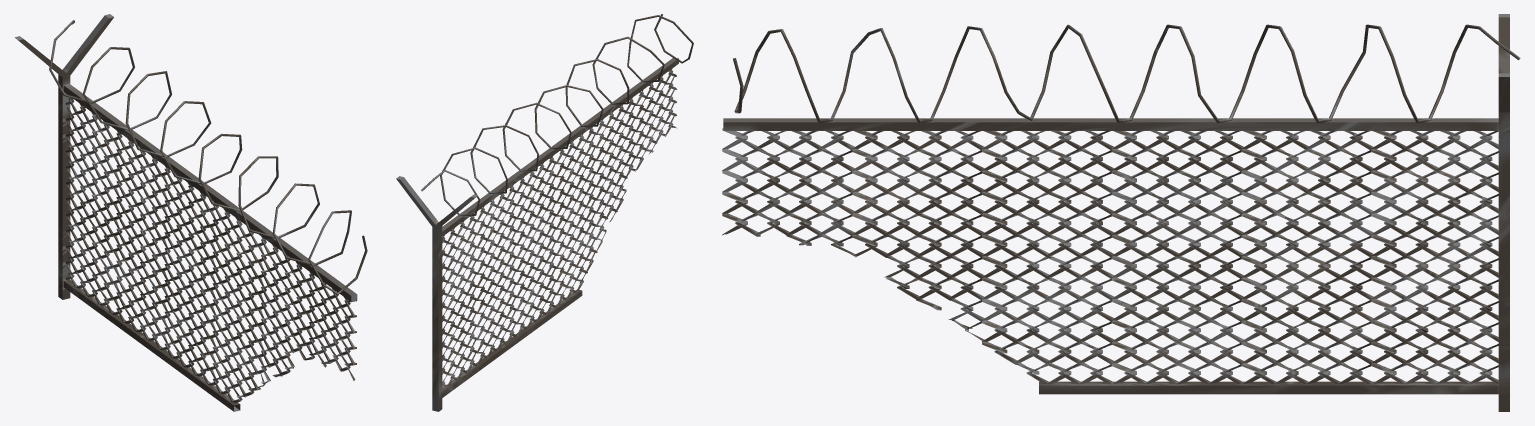
File: FenceBroken.fbx
The picture shows the model from 3 angles, left to right: view 1: azimuth 30°, elevation 25°; view 2: azimuth 150°, elevation 25°; view 3: azimuth 270°, elevation 25°; orthographic projection. The views are drawn at different scales.
Parts seen in each view (by area): view 1: Fence; view 2: Fence; view 3: Fence.
Boxes of the visible parts, x1,y1,x2,y2 form: Fence: [15, 14, 367, 411]; Fence: [396, 14, 693, 411]; Fence: [722, 14, 1520, 411].
Bounding box in the file's own units: 88.01 × 250 × 472.
